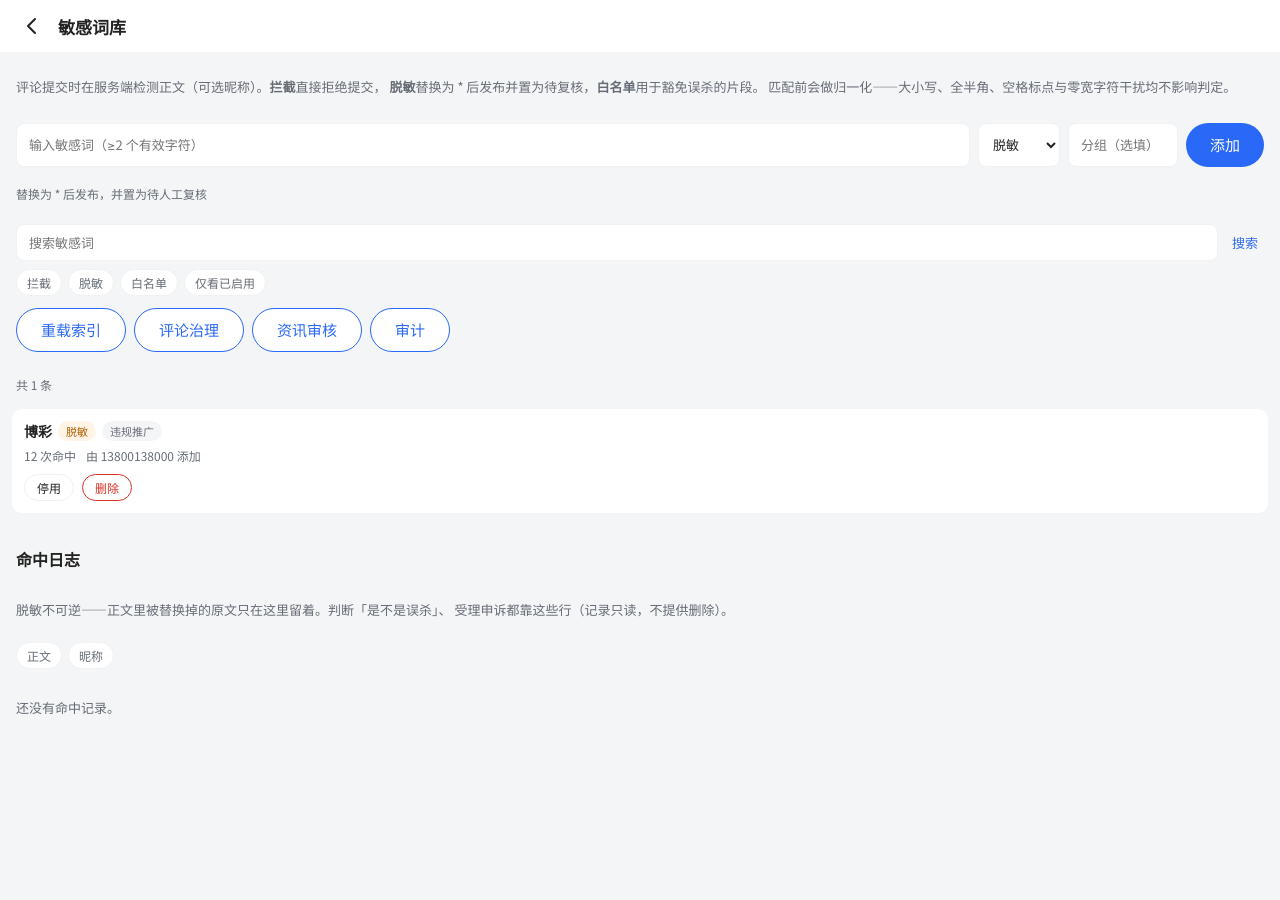
it: views/AdminWords 新增与维护 › 新增成功：就地插入列表、清空输入并提示已生效
The width and height of the screenshot is (1280, 900).
Type "内部消息" into the field named "敏感词".
click(493, 145); type("内部消息")  # box top-left (16, 123), bottom-right (970, 167)
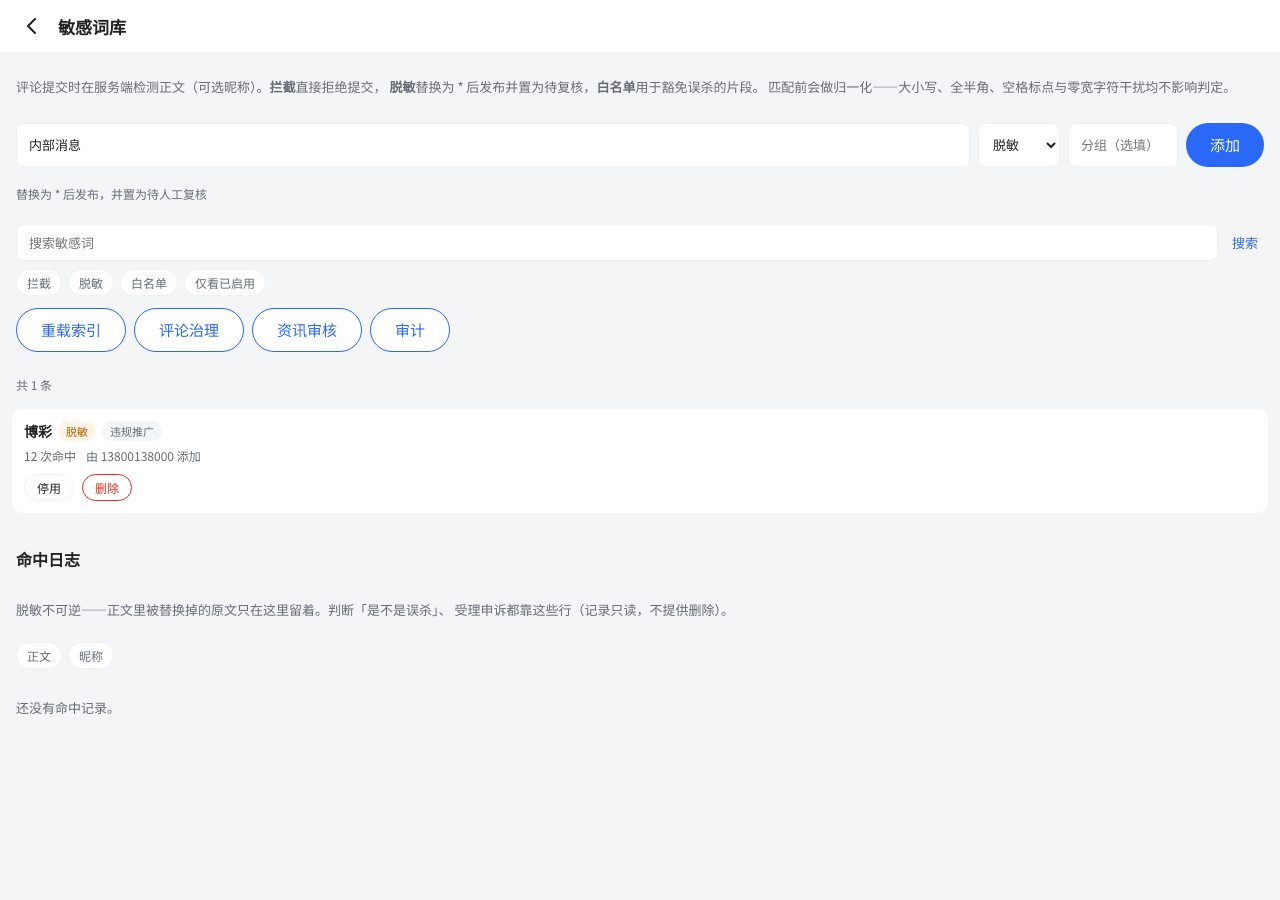
Select "拦截" in the dropdown named "命中后的处理方式" at (1019, 145), box top-left (978, 123), bottom-right (1060, 167)
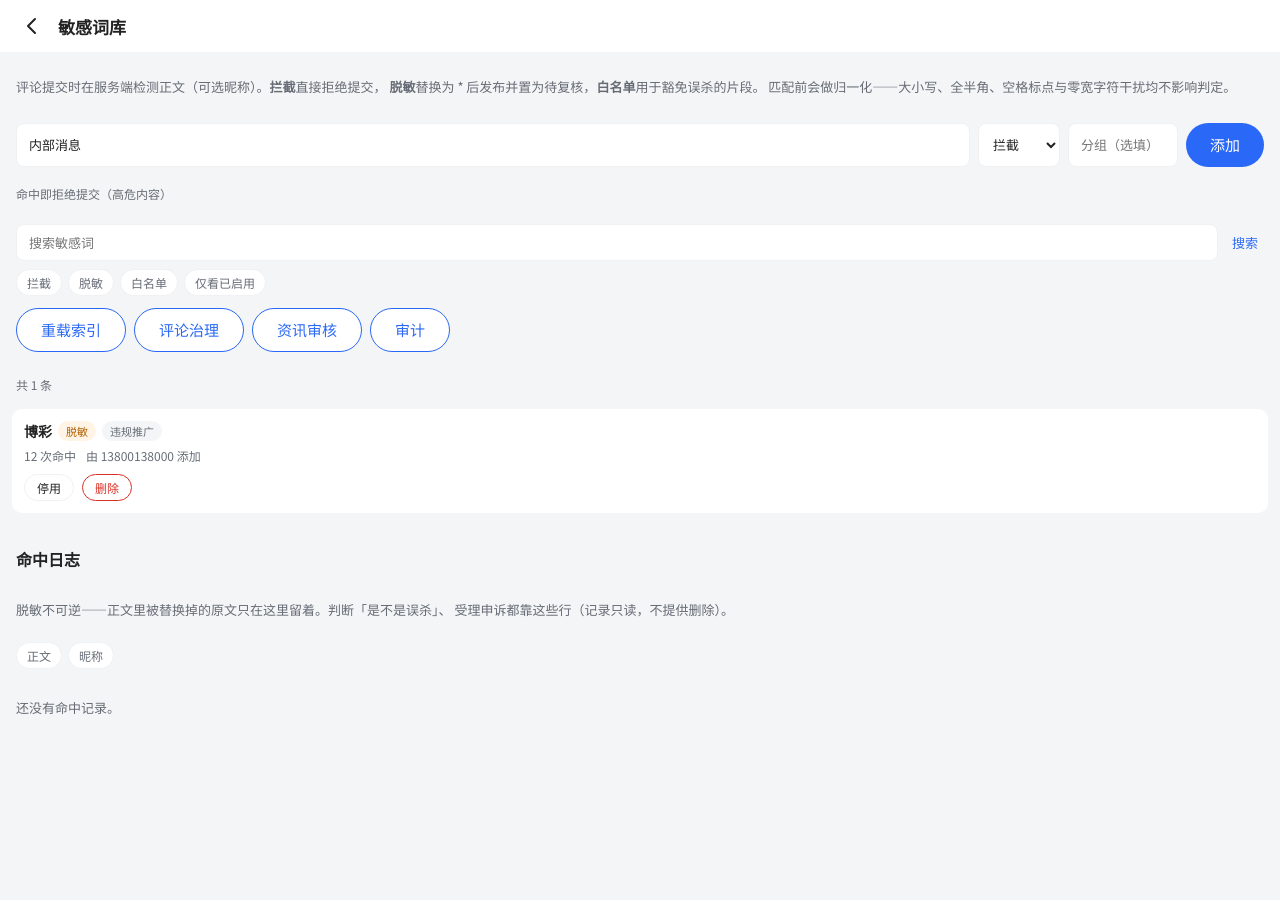
Type "违规推广" into the field named "分组".
click(1123, 145); type("违规推广")  # box top-left (1068, 123), bottom-right (1178, 167)
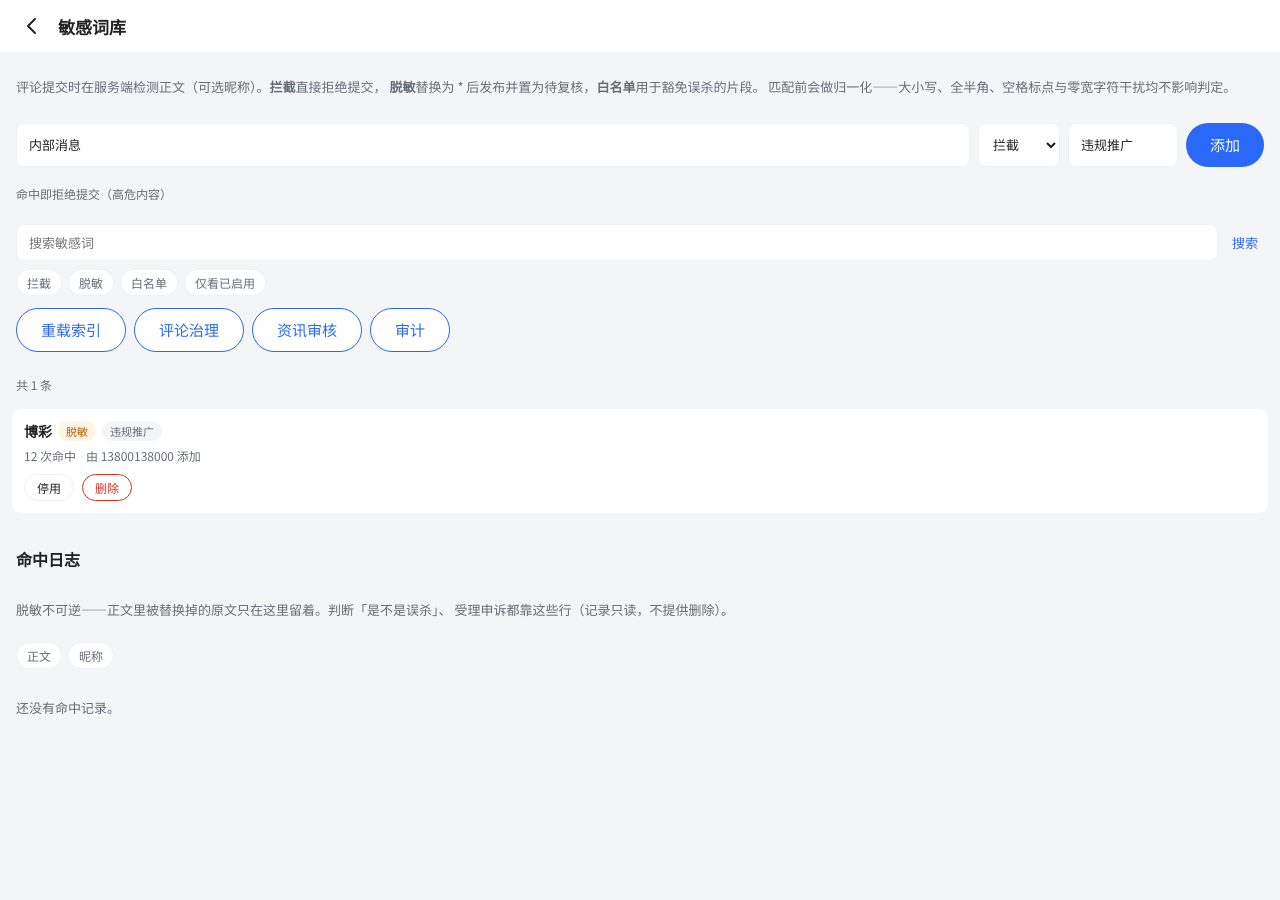
Press Enter in the field named "敏感词", box top-left (16, 123), bottom-right (970, 167)
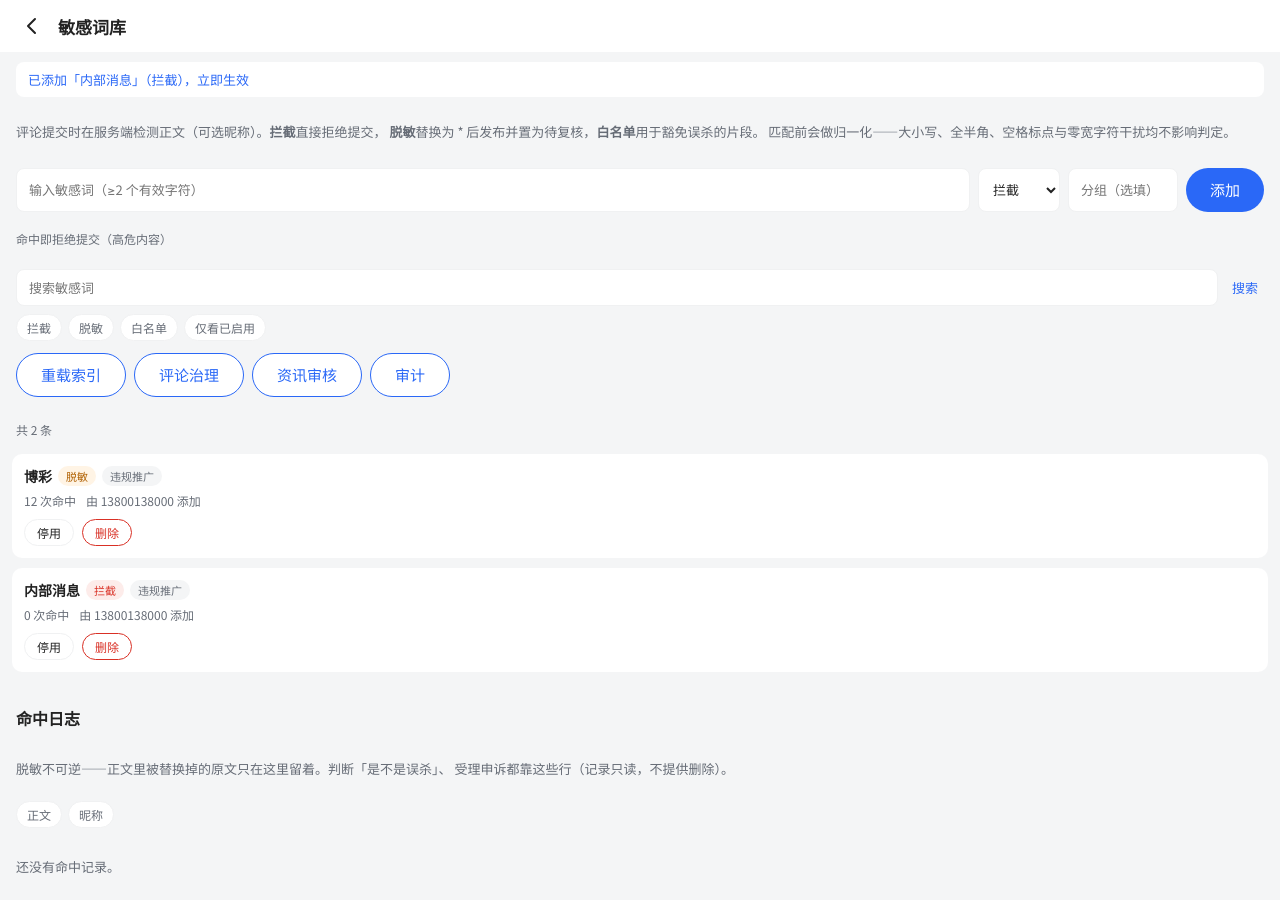
Now the text "已添加「内部消息」（拦截），立即生效" is shown, box top-left (16, 62), bottom-right (1264, 97)
Now the number of list items is 2, box top-left (12, 454), bottom-right (1268, 558); top-left (12, 568), bottom-right (1268, 672)
Now the text "共 2 条" is shown, box top-left (16, 421), bottom-right (52, 438)
